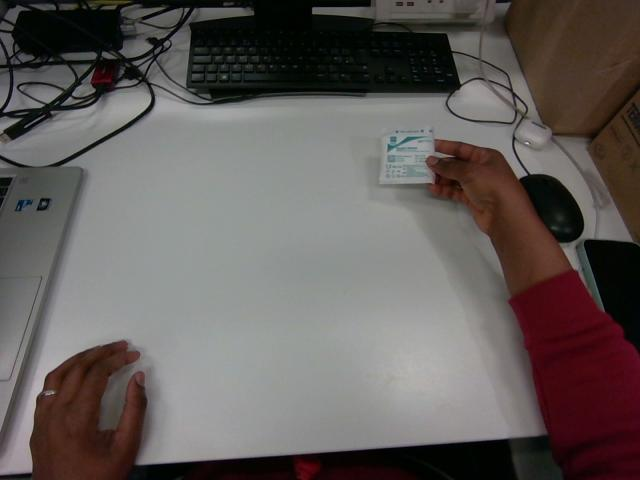gauze: (379, 126, 434, 183)
